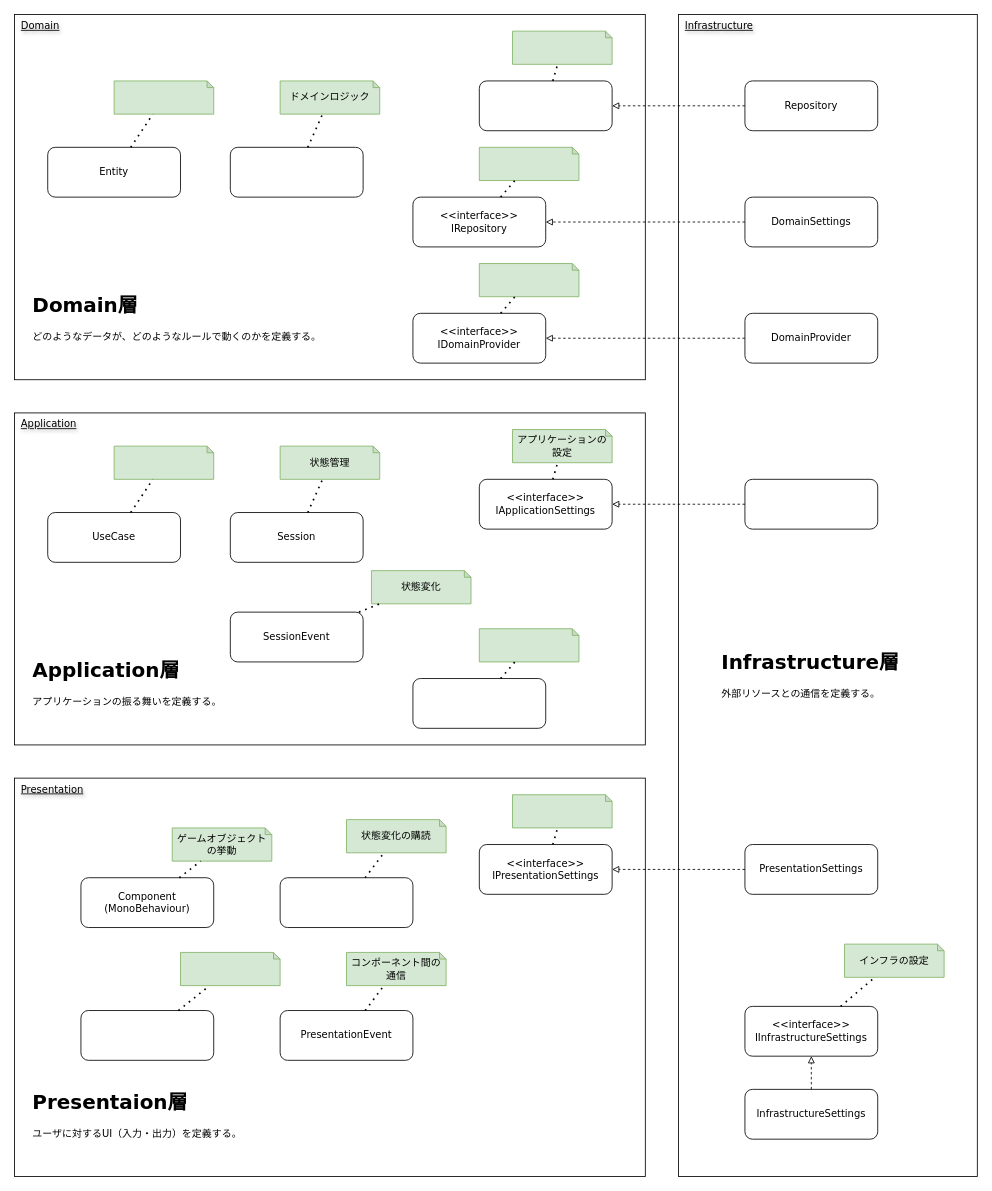
This 992x1191 diagram has some shape labels left out. Each missing label, with the box of its shape:
<<interface>> IDomainSettings: (478, 80, 612, 131)
ApplicationSettings: (744, 478, 878, 529)
DomainFunction: (229, 146, 363, 197)
Listener: (279, 877, 413, 928)
Service: (412, 678, 546, 728)
UI, Input: (80, 1010, 214, 1060)
UIの描画・入力受付: (180, 952, 280, 986)
サービス: (478, 628, 579, 662)
データの永続化: (478, 146, 579, 181)
データモデル: (113, 80, 214, 114)
ドメインの設定: (512, 30, 612, 64)
プレゼンテーションの設定: (512, 794, 612, 828)
ユースケース: (113, 445, 214, 479)
外部リソース取得: (478, 263, 579, 297)
